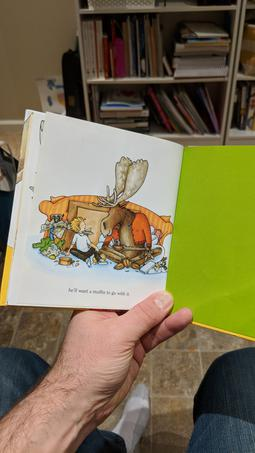text block: (65, 280, 136, 300)
